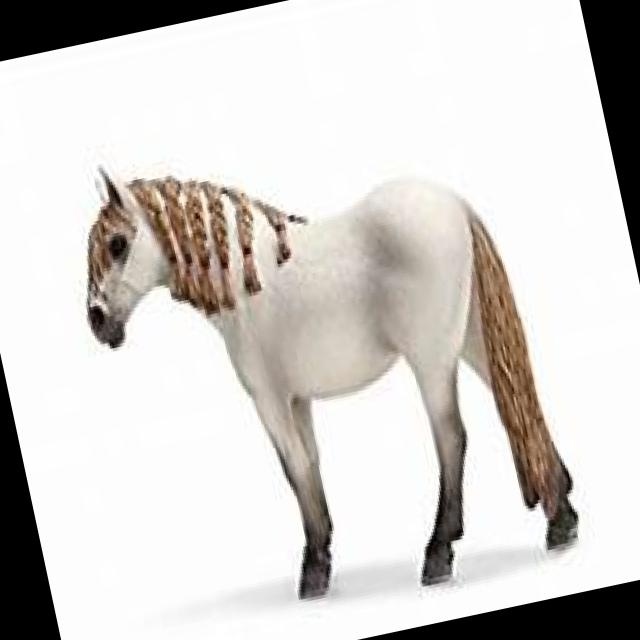animal: (53, 78, 587, 640)
